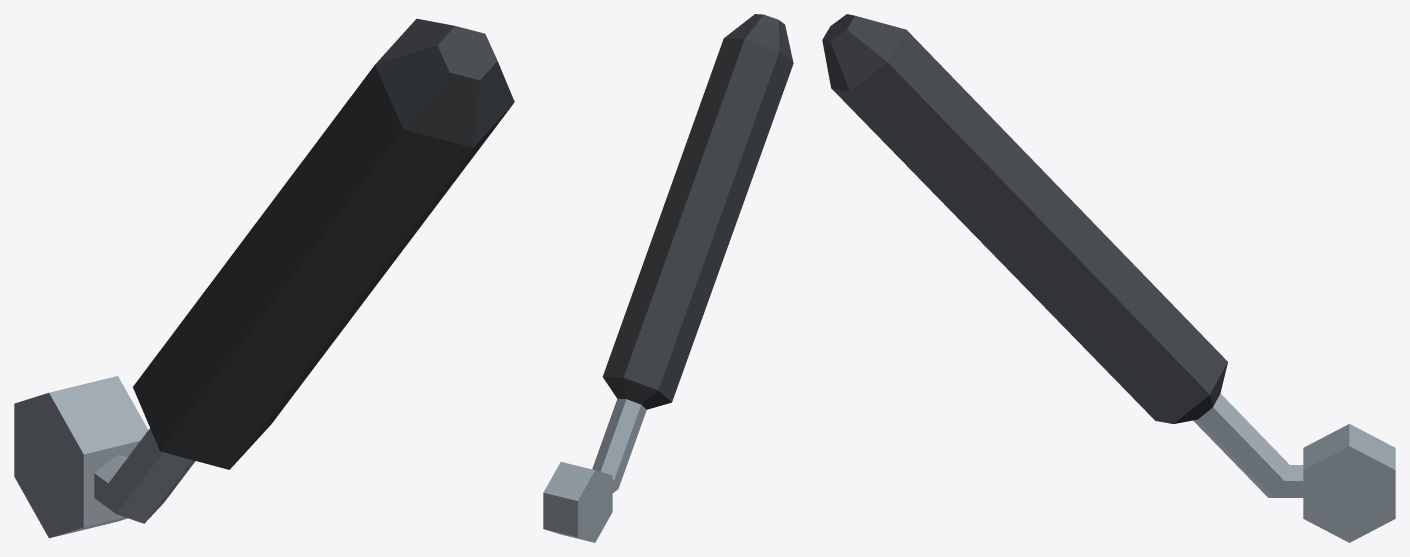
File: SM_Prop_Kitchen_Ice_Cream_Machine_01_Lever_03.obj
3 views of the same model, side by side, from view 1: azimuth 30°, elevation 25°; view 2: azimuth 150°, elevation 25°; view 3: azimuth 270°, elevation 25° (orthographic). The views are drawn at different scales.
Parts seen in each view (by area): view 1: SM_Prop_Kitchen_Ice_Cream_Machine_01_Lever_03_0; view 2: SM_Prop_Kitchen_Ice_Cream_Machine_01_Lever_03_0; view 3: SM_Prop_Kitchen_Ice_Cream_Machine_01_Lever_03_0.
Part boxes in pixels (x1,y1,x2,y2): SM_Prop_Kitchen_Ice_Cream_Machine_01_Lever_03_0: (14,18,514,538); SM_Prop_Kitchen_Ice_Cream_Machine_01_Lever_03_0: (543,14,793,542); SM_Prop_Kitchen_Ice_Cream_Machine_01_Lever_03_0: (822,14,1395,542).
Bounding box in the file's own units: 0.031 × 0.2065 × 0.2079.
1 material, 1 textured.
